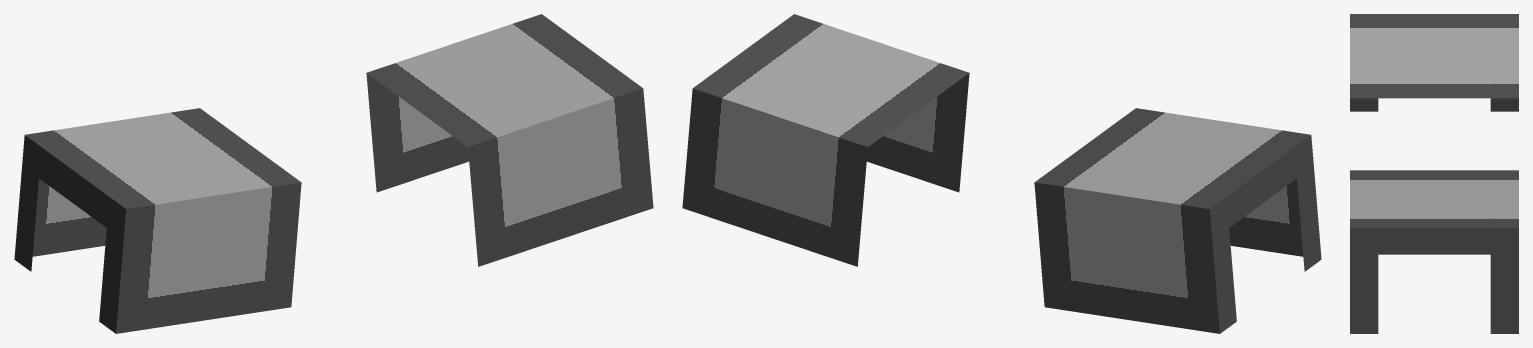
The model's file is pauldrons_judge.fbx.
3 renders of one model, left to right at view 1: azimuth 30°, elevation 25°; view 2: azimuth 150°, elevation 25°; view 3: azimuth 270°, elevation 25°, orthographic. The views are drawn at different scales.
Parts seen in each view (by area): view 1: paldron.001, paldron; view 2: paldron.001, paldron; view 3: paldron, paldron.001.
Boxes of the visible parts, x1=… form: paldron.001: x1=14, y1=108, x2=301, y2=333; paldron: x1=366, y1=14, x2=653, y2=266; paldron.001: x1=1034, y1=108, x2=1321, y2=333; paldron: x1=682, y1=14, x2=969, y2=266; paldron: x1=1350, y1=170, x2=1518, y2=333; paldron.001: x1=1350, y1=14, x2=1518, y2=111.
Size of the model in its own units: 115 by 29.26 by 37.5.
1 material, 1 textured.
